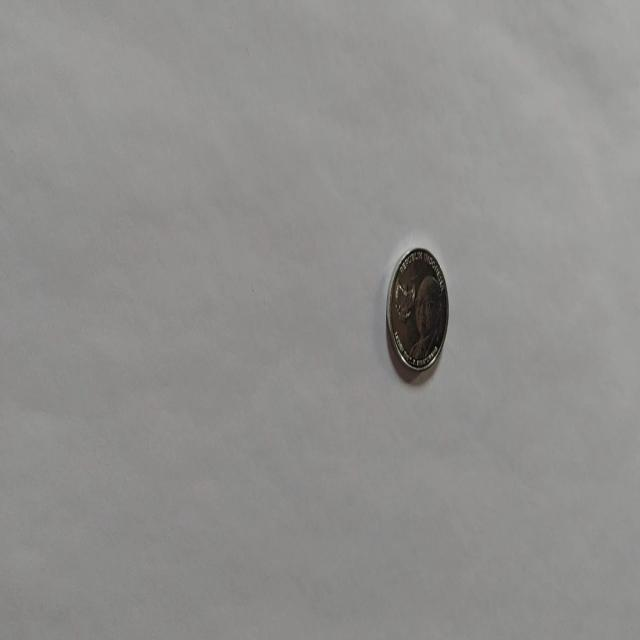lima ratus rupiah: (386, 245, 448, 376)
